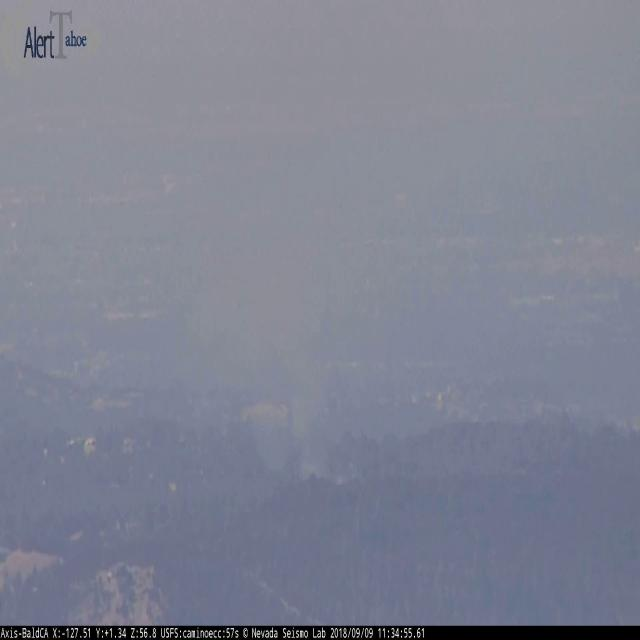smoke: (225, 274, 348, 488)
